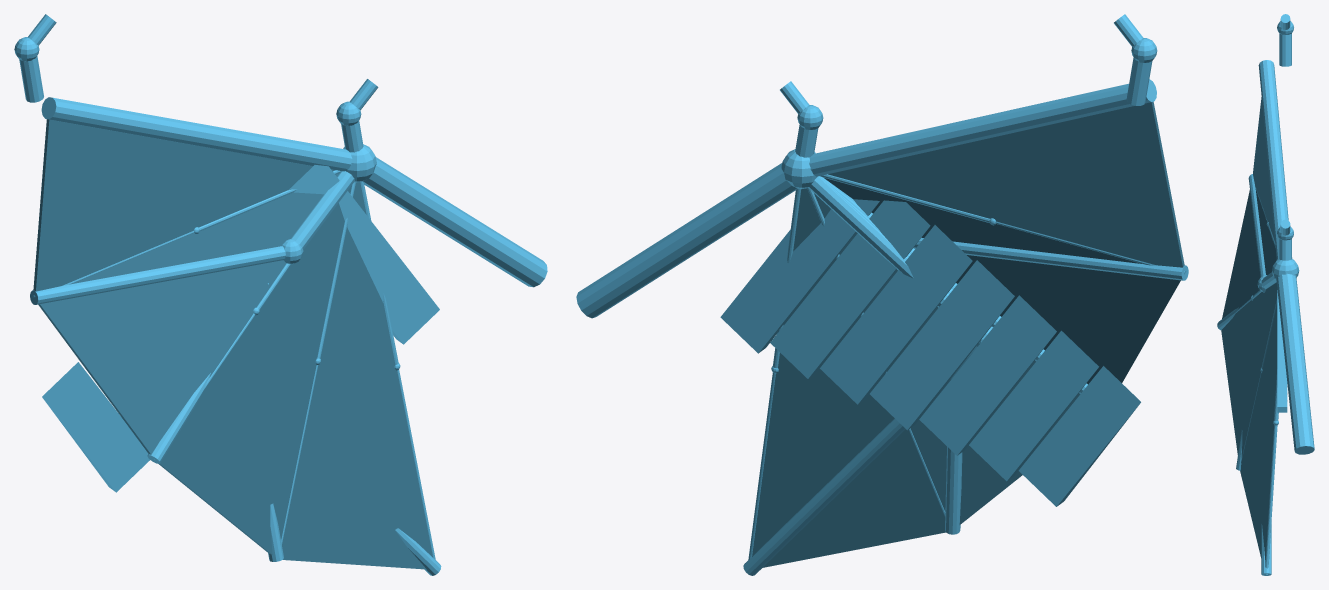
Rendered from WaterWingLeft.obj.
3 renders of one model, left to right at view 1: azimuth 30°, elevation 25°; view 2: azimuth 150°, elevation 25°; view 3: azimuth 270°, elevation 25°, orthographic. The views are drawn at different scales.
Parts seen in each view (by area): view 1: WaterWingLeft; view 2: WaterWingLeft; view 3: WaterWingLeft.
Part boxes in pixels (<box>): WaterWingLeft: <box>14,14,547,575</box>; WaterWingLeft: <box>576,14,1188,575</box>; WaterWingLeft: <box>1217,14,1314,575</box>.
Bounding box in the file's own units: 6.81 × 7.61 × 1.53.
